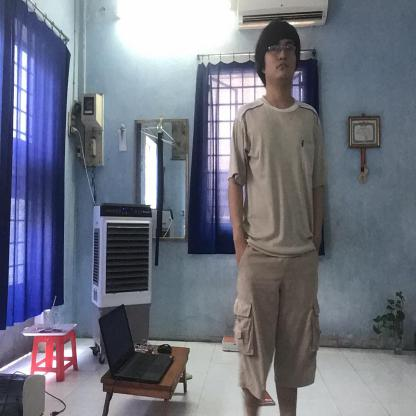person: (228, 22, 330, 410)
